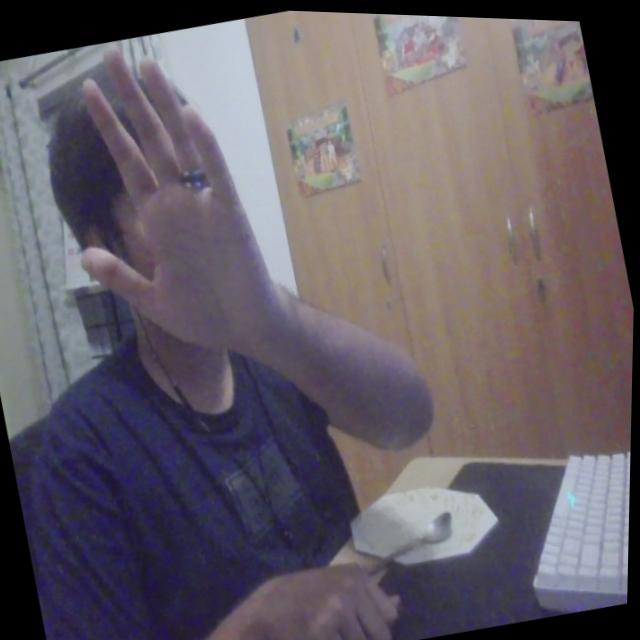hello: (21, 11, 319, 407)
